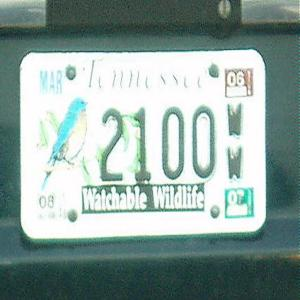Vehicle-registration-plate: (19, 49, 267, 247)
